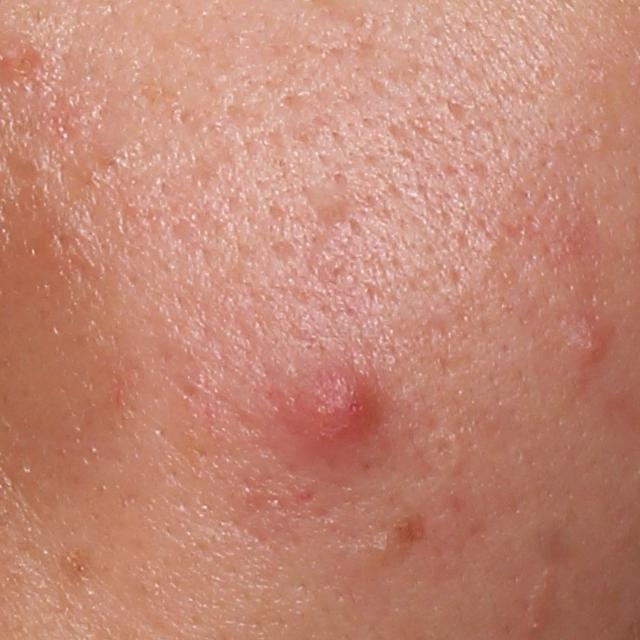papule: (314, 383, 383, 441), (572, 316, 606, 362)
